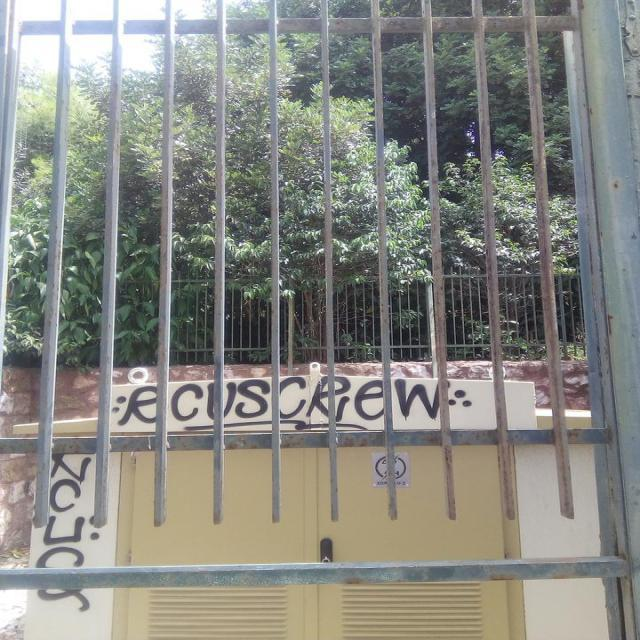nonspitting: (115, 377, 472, 435), (32, 454, 99, 614)
